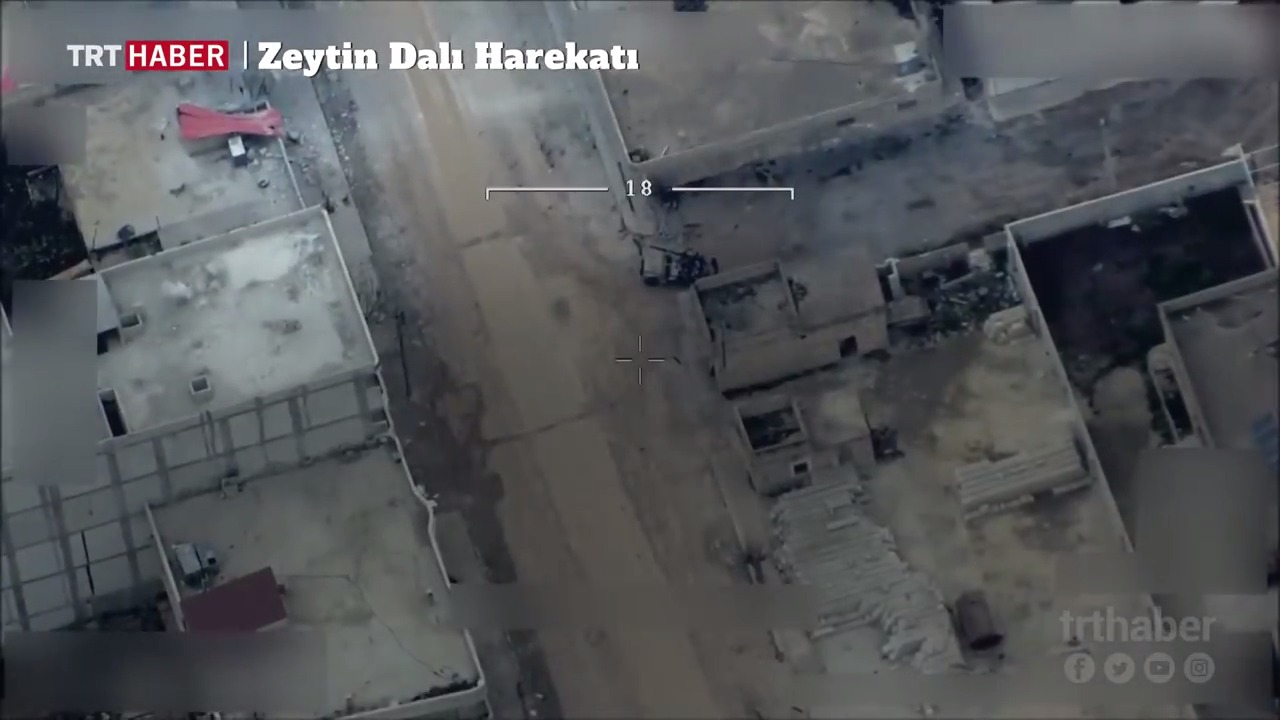arac: (641, 240, 711, 282)
bina: (691, 236, 894, 388), (729, 370, 914, 490)
